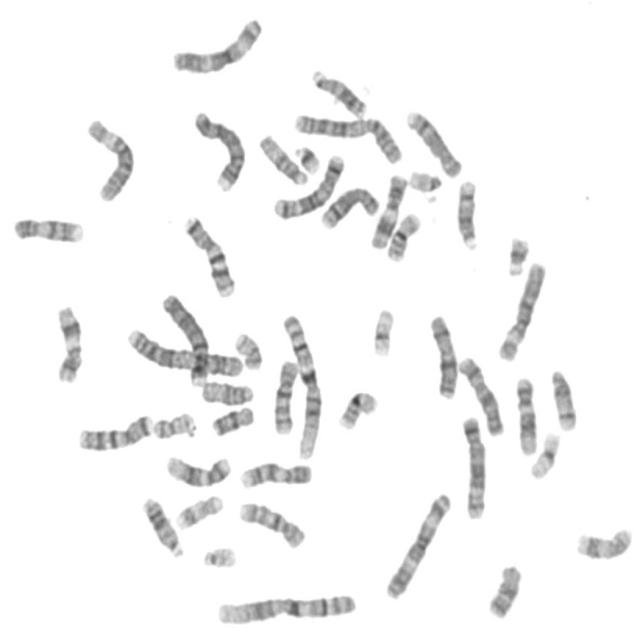A1: (278, 308, 324, 462), (211, 586, 358, 627)
A2: (122, 321, 246, 378), (288, 106, 406, 164)
A3: (379, 485, 454, 601), (167, 10, 266, 75)
B4: (156, 286, 211, 388), (188, 104, 247, 194)
B5: (268, 148, 346, 221), (456, 409, 489, 521)
C10: (234, 495, 308, 551), (269, 353, 300, 436)
C11: (366, 168, 408, 250), (50, 298, 85, 384)
C12: (161, 448, 233, 489), (511, 371, 540, 456)
C6: (493, 254, 549, 363), (81, 111, 137, 204)
C7: (178, 208, 238, 298), (73, 407, 155, 452)
C8: (401, 102, 464, 180), (316, 180, 381, 230)
C9: (8, 210, 86, 246), (235, 456, 315, 490)
D13: (307, 63, 369, 119), (137, 490, 185, 559)
D14: (545, 361, 580, 433), (452, 174, 481, 252)
D15: (254, 128, 310, 187), (196, 375, 256, 406)
E16: (382, 206, 423, 263), (334, 384, 381, 431)
E17: (571, 521, 635, 562), (171, 488, 225, 532)
E18: (482, 557, 524, 621), (206, 400, 256, 438)
F19: (524, 426, 563, 480), (367, 301, 397, 358)
F20: (148, 404, 198, 440), (229, 326, 265, 372)
G21: (501, 229, 532, 278), (288, 138, 323, 174)
G22: (198, 540, 238, 570), (404, 164, 444, 193)
X: (453, 350, 506, 438), (424, 308, 460, 400)
